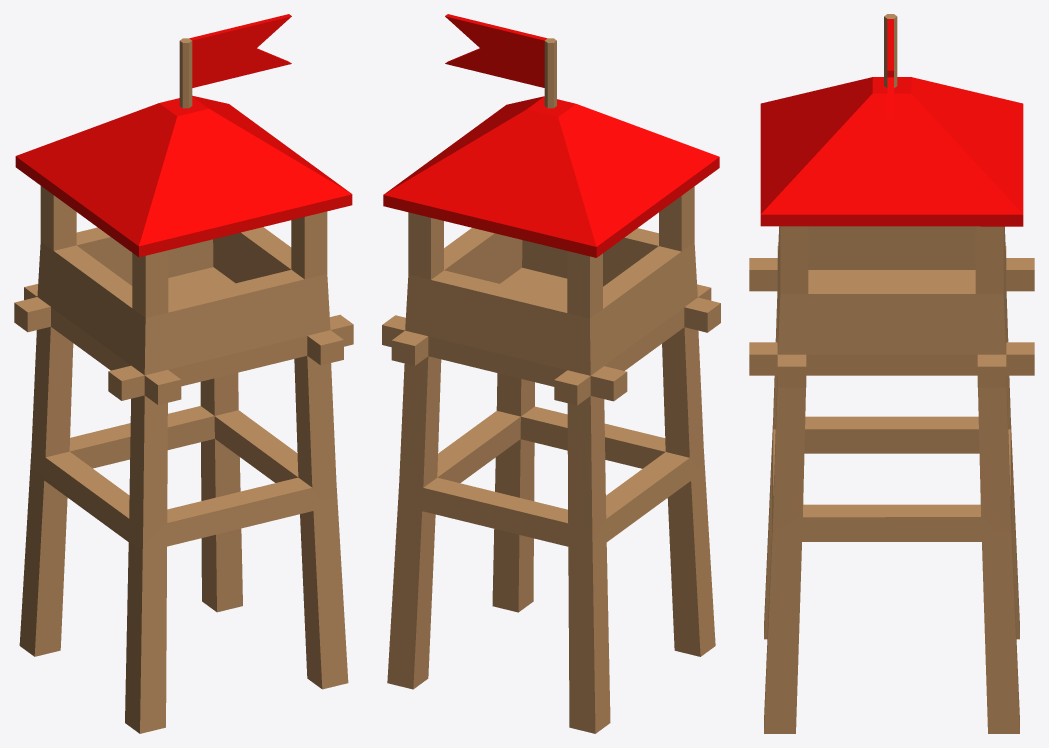
Rendered from WachTower1.fbx.
3 renders of one model, left to right at view 1: azimuth 30°, elevation 25°; view 2: azimuth 150°, elevation 25°; view 3: azimuth 270°, elevation 25°, orthographic. The views are drawn at different scales.
Visible parts, largest first — view 1: Watchtower With Roof.001; view 2: Watchtower With Roof.001; view 3: Watchtower With Roof.001.
Part boxes in pixels (x1,y1,x2,y2): Watchtower With Roof.001: (14,14,353,733); Watchtower With Roof.001: (382,14,720,733); Watchtower With Roof.001: (749,14,1034,733).
Size of the model in its own units: 444 by 1141 by 444.
